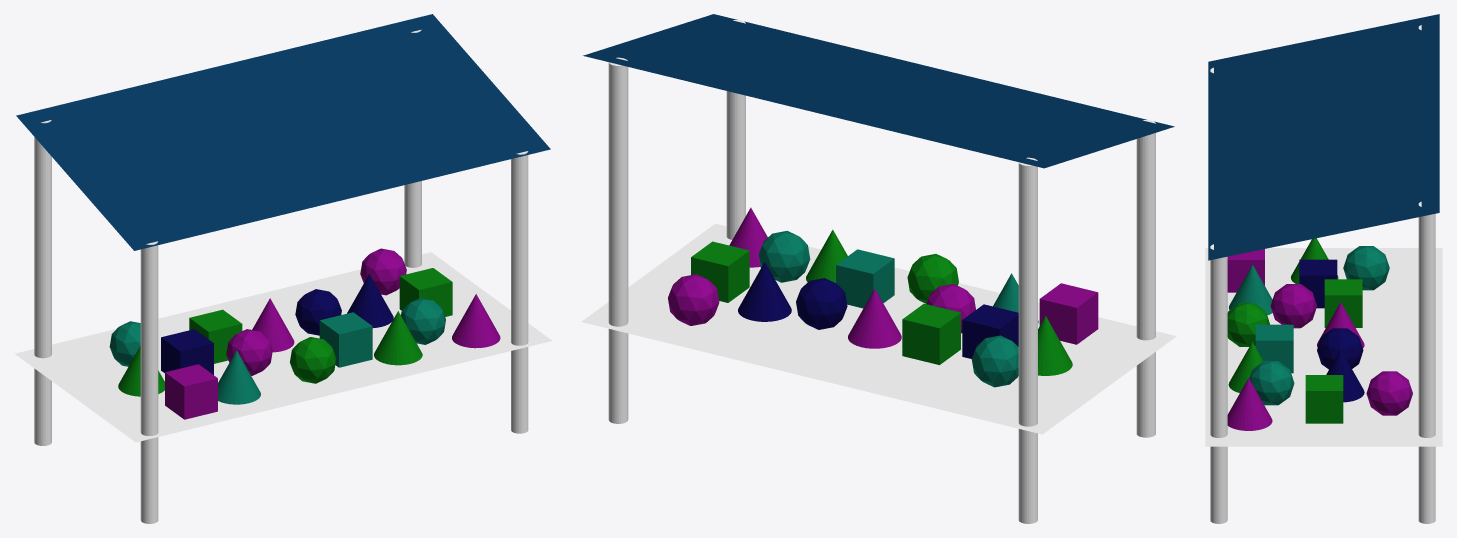
The model's file is puesto1.glb.
The picture shows the model from 3 angles, left to right: view 1: azimuth 30°, elevation 25°; view 2: azimuth 150°, elevation 25°; view 3: azimuth 270°, elevation 25°; orthographic projection. The views are drawn at different scales.
Visible parts, largest first — view 1: Cylinder, Cube, Cube.002, Cube.004, Cube.003, Icosphere.004, Cone.005, Cone.004, Icosphere.002, Cube.001, Icosphere.005, Cone.001 (+6 smaller); view 2: Cylinder, Cube.001, Cube, Cube.002, Cube.003, Icosphere.005, Icosphere.001, Icosphere.002, Icosphere, Cube.004, Cone.002, Cone.003 (+5 smaller); view 3: Cylinder, Cube.003, Icosphere.005, Icosphere.003, Cube.001, Icosphere, Icosphere.002, Cube.002, Cone.004, Icosphere.004, Icosphere.001, Cube.004 (+6 smaller).
Boxes of the visible parts, x1=… form: Cylinder: x1=15, y1=14, x2=551, y2=523; Cube: x1=165, y1=364, x2=217, y2=419; Cube.002: x1=319, y1=312, x2=372, y2=367; Cube.004: x1=161, y1=329, x2=213, y2=374; Cube.003: x1=399, y1=268, x2=452, y2=316; Icosphere.004: x1=290, y1=337, x2=336, y2=383; Cone.005: x1=374, y1=311, x2=422, y2=365; Cone.004: x1=452, y1=294, x2=500, y2=348; Icosphere.002: x1=401, y1=298, x2=445, y2=344; Cube.001: x1=189, y1=309, x2=242, y2=363; Icosphere.005: x1=360, y1=248, x2=406, y2=295; Cone.001: x1=218, y1=350, x2=260, y2=404; Cylinder: x1=581, y1=14, x2=1176, y2=523; Cube.001: x1=902, y1=303, x2=960, y2=364; Cube: x1=1039, y1=283, x2=1098, y2=344; Cube.002: x1=836, y1=249, x2=894, y2=308; Cube.003: x1=691, y1=241, x2=749, y2=302; Icosphere.005: x1=668, y1=274, x2=719, y2=325; Icosphere.001: x1=796, y1=278, x2=847, y2=329; Icosphere.002: x1=758, y1=230, x2=810, y2=282; Icosphere: x1=971, y1=335, x2=1018, y2=387; Cube.004: x1=962, y1=304, x2=1018, y2=358; Cone.002: x1=848, y1=288, x2=901, y2=348; Cone.003: x1=738, y1=262, x2=791, y2=321; Cylinder: x1=1205, y1=14, x2=1442, y2=523; Cube.003: x1=1305, y1=375, x2=1343, y2=423; Icosphere.005: x1=1366, y1=371, x2=1412, y2=415; Icosphere.003: x1=1270, y1=284, x2=1316, y2=328; Cube.001: x1=1324, y1=279, x2=1362, y2=327; Icosphere: x1=1343, y1=246, x2=1389, y2=290; Icosphere.002: x1=1249, y1=361, x2=1294, y2=405; Cube.002: x1=1255, y1=324, x2=1293, y2=373; Cone.004: x1=1227, y1=378, x2=1272, y2=430; Icosphere.004: x1=1227, y1=303, x2=1269, y2=346; Icosphere.001: x1=1317, y1=328, x2=1363, y2=369; Cube.004: x1=1299, y1=259, x2=1337, y2=308.
Size of what is drawn, in the model's own units: 54.71 by 41.03 by 27.58.
